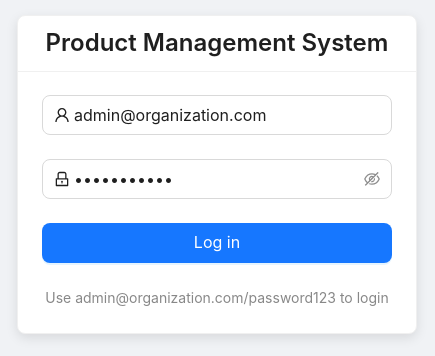
Test: Login Component › shows validation errors when submitting empty form
Clear the field with placeholder "Username" at {"x": 227, "y": 114}, box left=74, top=102, right=380, bottom=126
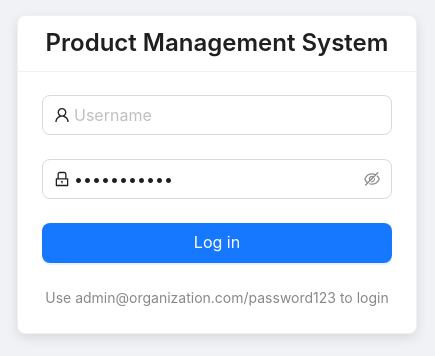
Clear the password field with placeholder "Password" at {"x": 217, "y": 178}, box left=74, top=166, right=360, bottom=190
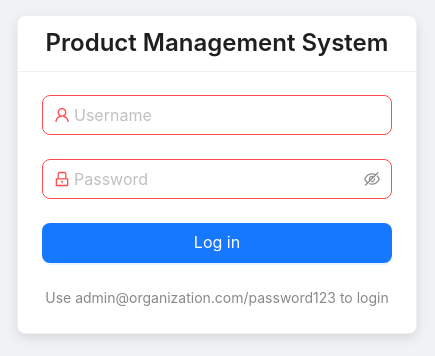
// Submit the form
Click the button "Log in".
click(217, 242)  # box left=42, top=222, right=392, bottom=262
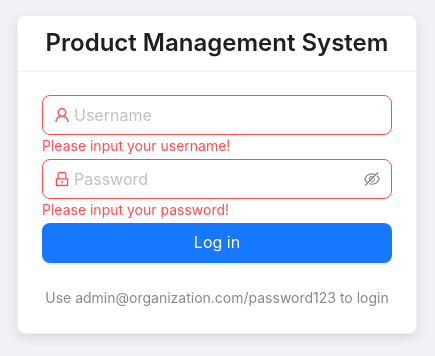
Result: the text "Please input your username!" is shown at left=42, top=136, right=230, bottom=154
Result: the text "Please input your password!" is shown at left=42, top=200, right=229, bottom=218
